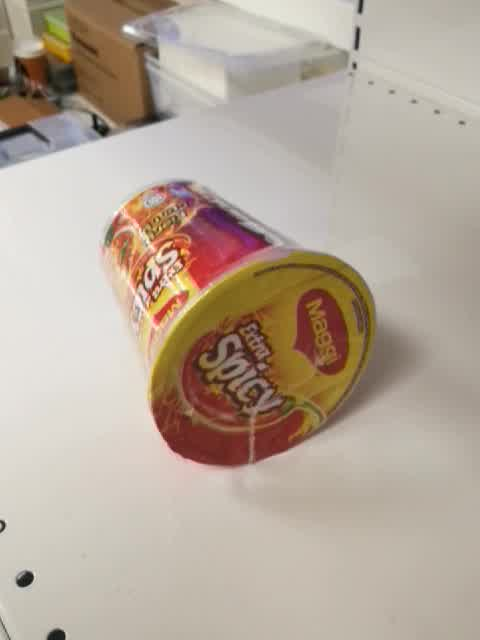maggi: (97, 176, 377, 469)
